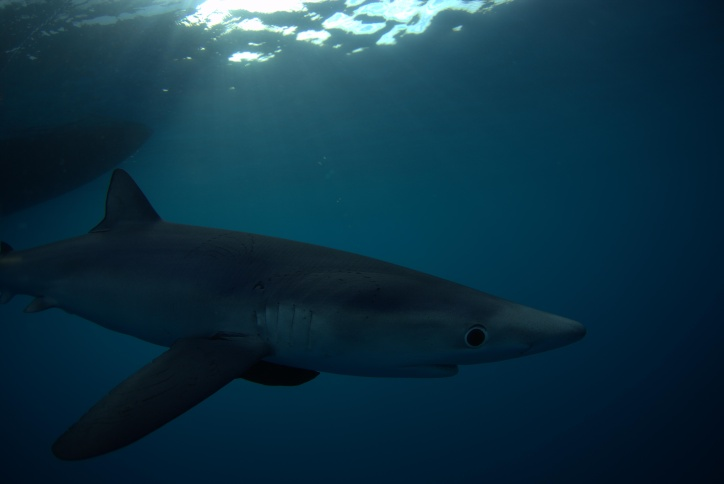Azul: (1, 155, 618, 476)
